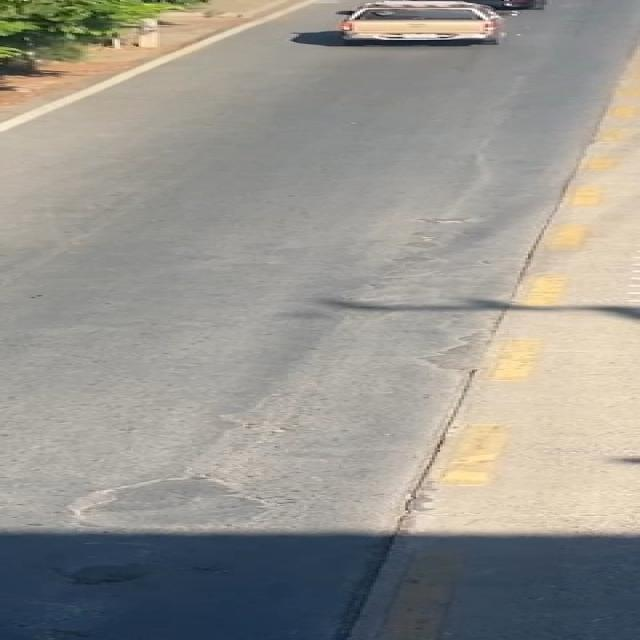car: (324, 0, 518, 47)
